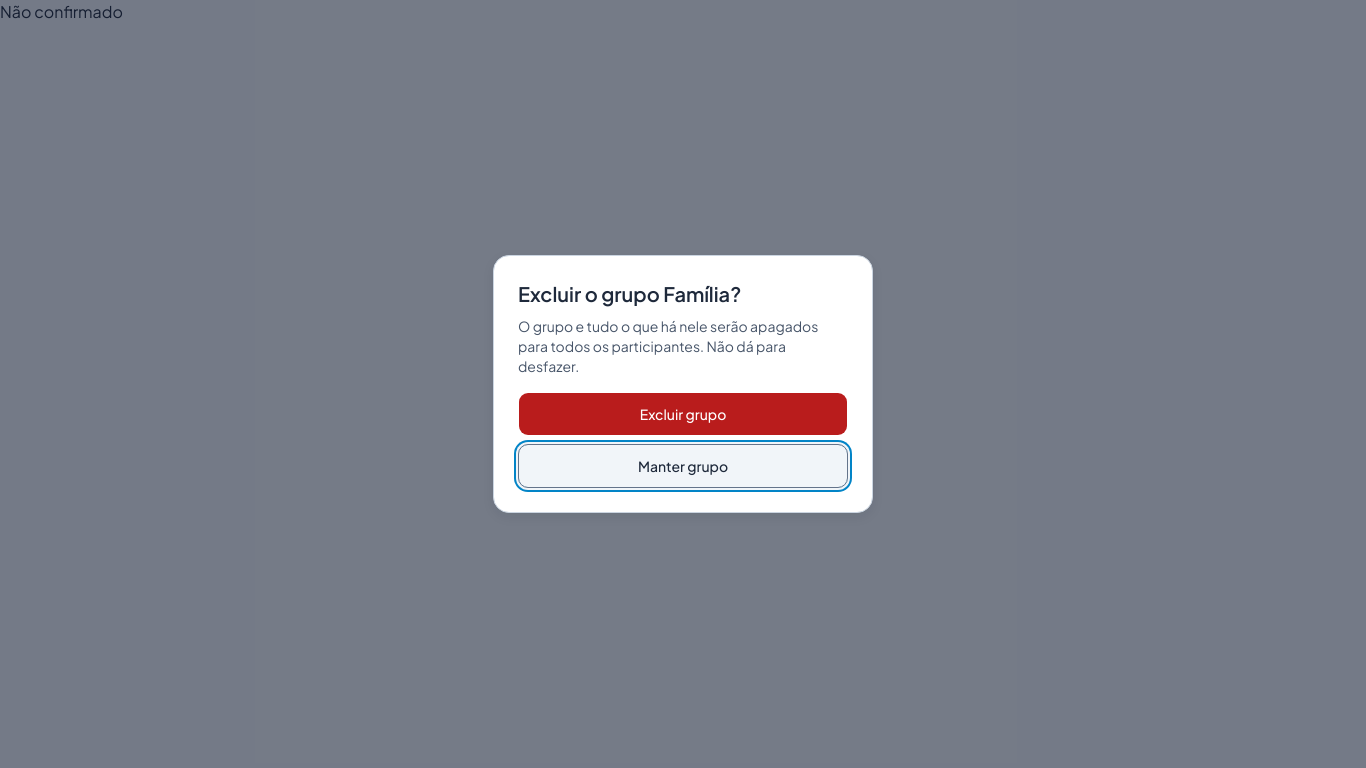
Scenario: ConfirmDialog › fecha sem confirmar com Manter grupo, Esc e toque fora
The image size is (1366, 768).
Later steps or results of the test are not shown.
expect the dialog "Excluir o grupo Família?" is shown: met, box 493,255 -> 873,513
Click the button "Manter grupo": (683, 466) 518,444 -> 848,488
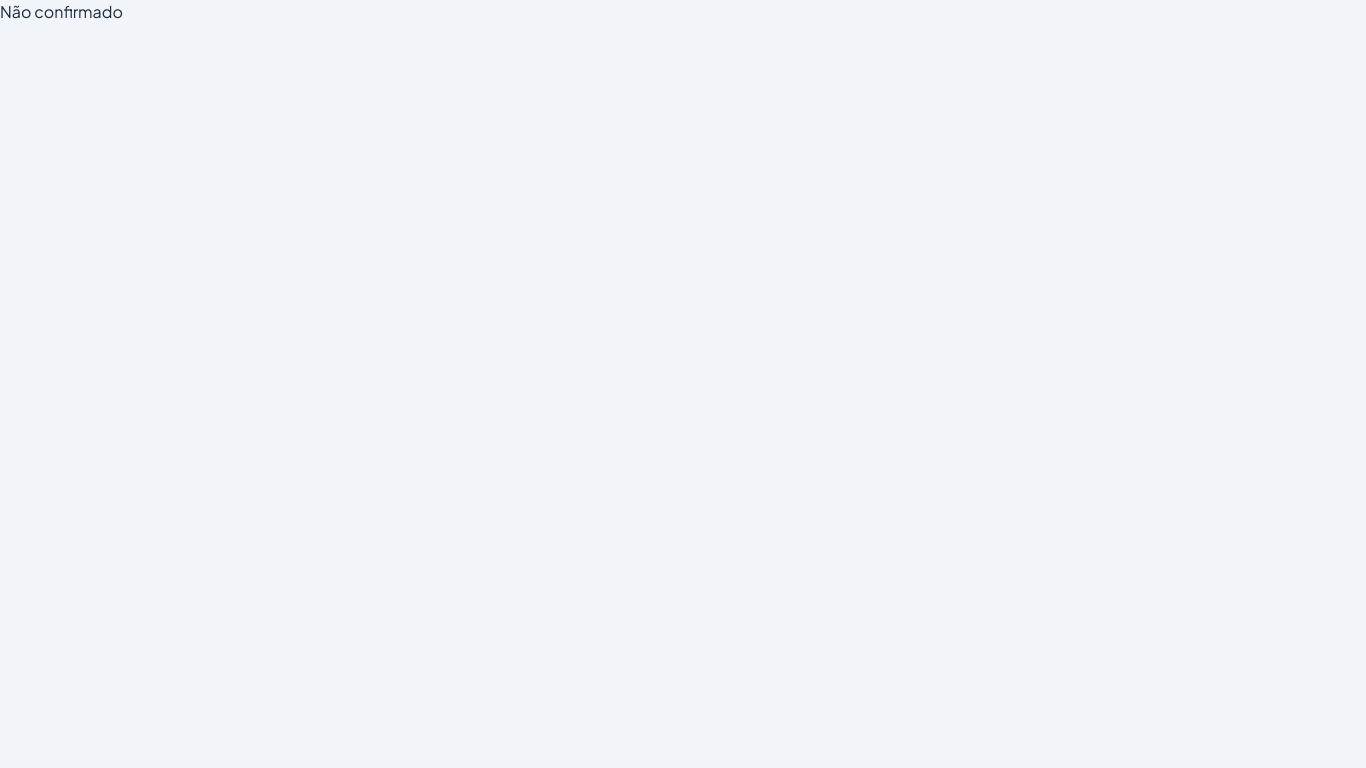
expect the text "Não confirmado" is shown: met, box 0,1 -> 123,22
expect the dialog is gone: met
